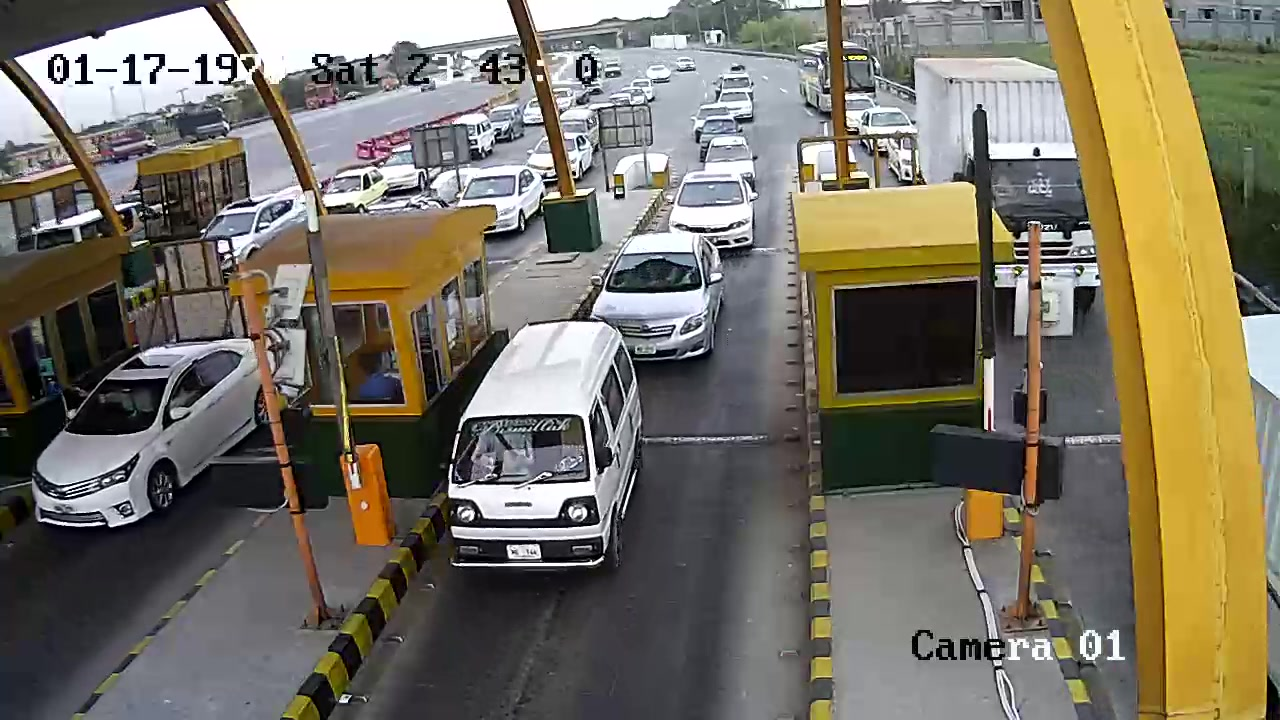F1: (446, 311, 649, 583), (583, 229, 739, 357)
